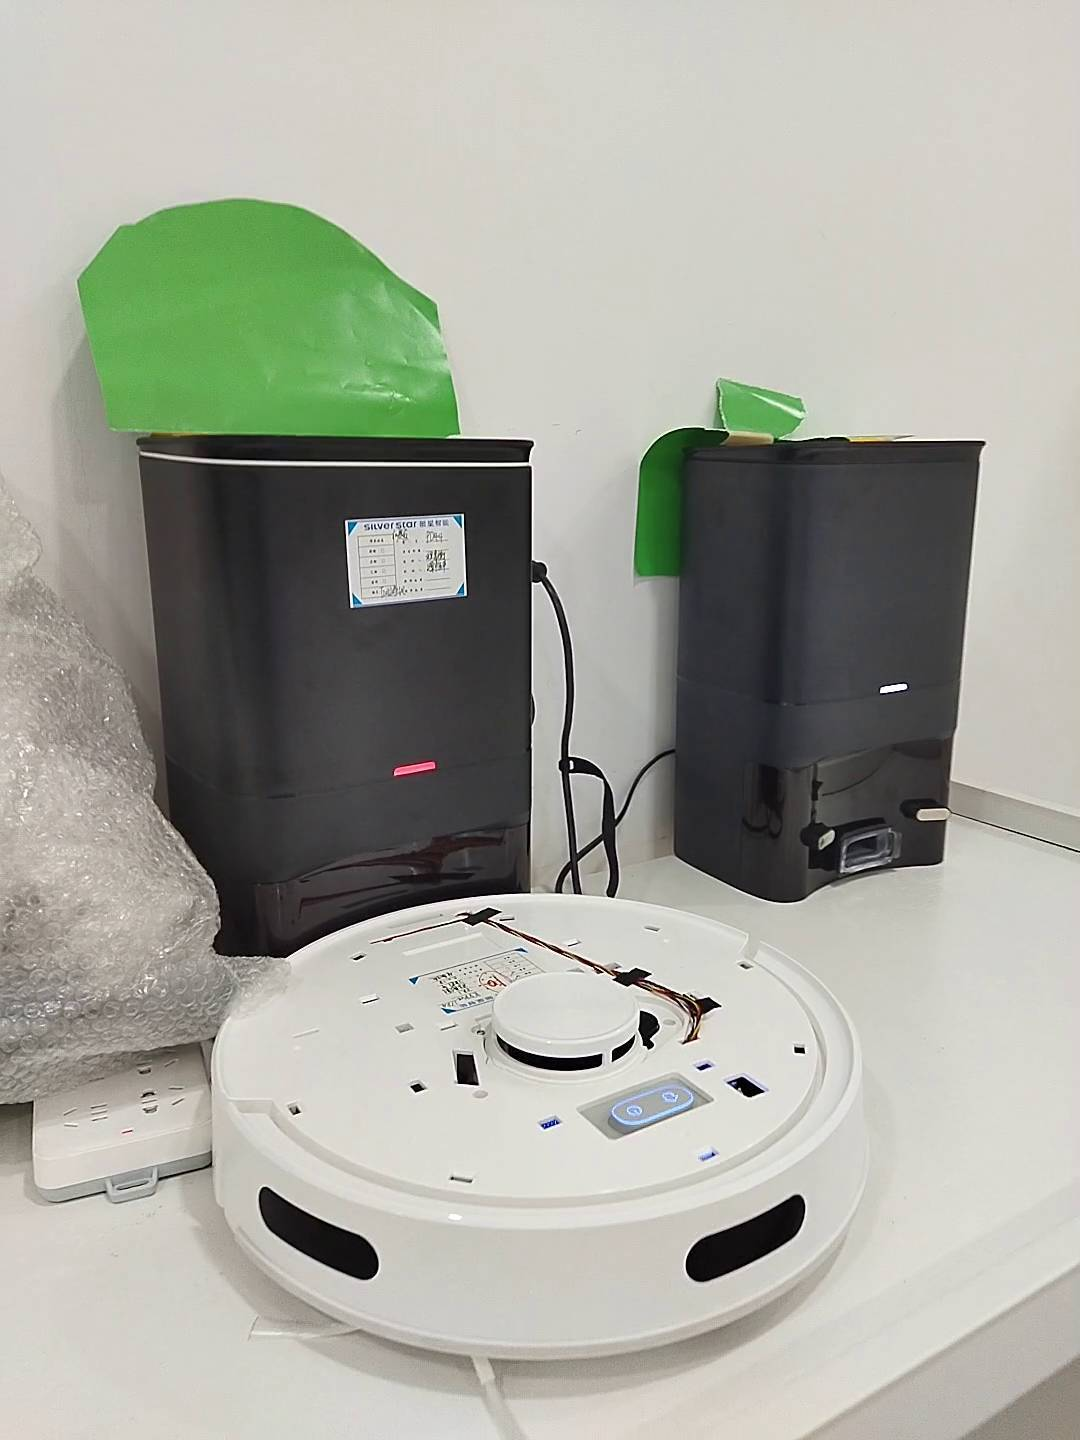dust collecting barrel: (136, 431, 546, 958), (669, 437, 990, 903)
